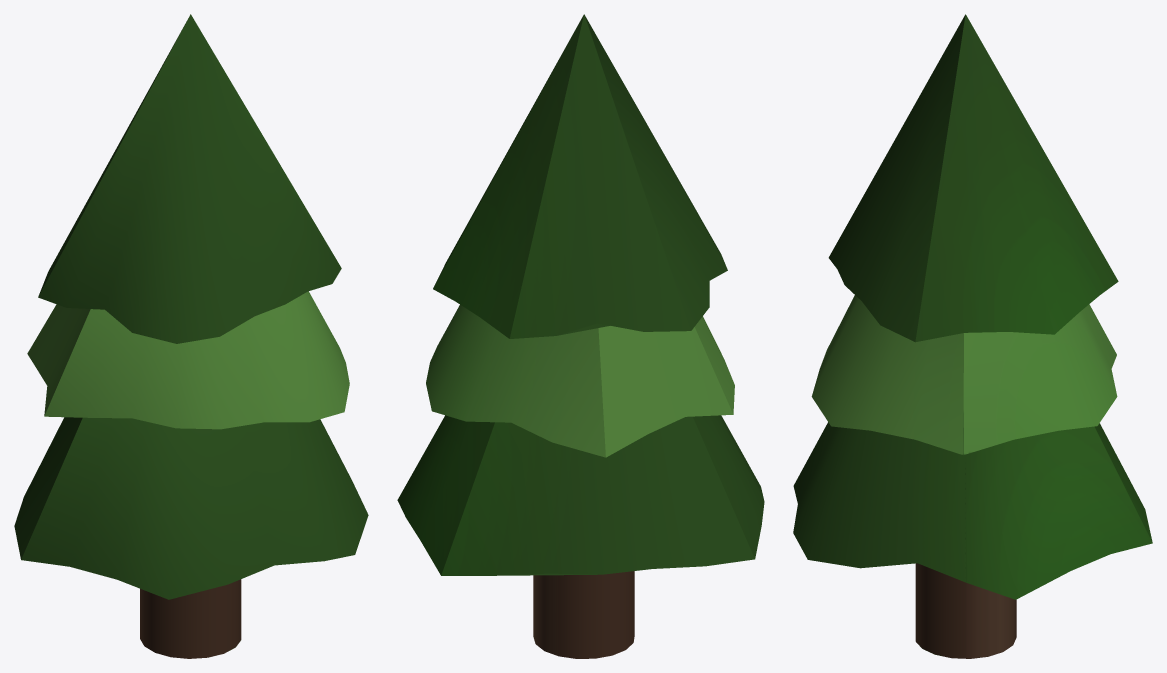
Rendered from tree4.fbx.
3 views of the same model, side by side, from view 1: azimuth 30°, elevation 25°; view 2: azimuth 150°, elevation 25°; view 3: azimuth 270°, elevation 25° (orthographic).
Parts seen in each view (by area): view 1: agac4; view 2: agac4; view 3: agac4.
Boxes of the visible parts, <box> form: agac4: <box>14,14,368,658</box>; agac4: <box>397,14,764,658</box>; agac4: <box>793,14,1152,658</box>.
Size of the model in its own units: 376 by 675 by 353.
Materials: 1 (1 with a texture image).
